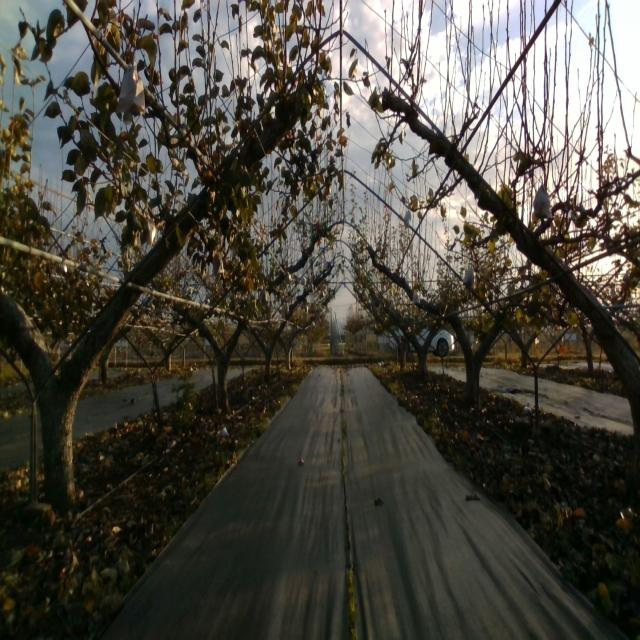pearbags: (115, 59, 146, 116), (533, 177, 553, 219), (142, 211, 157, 246), (463, 264, 474, 290)
